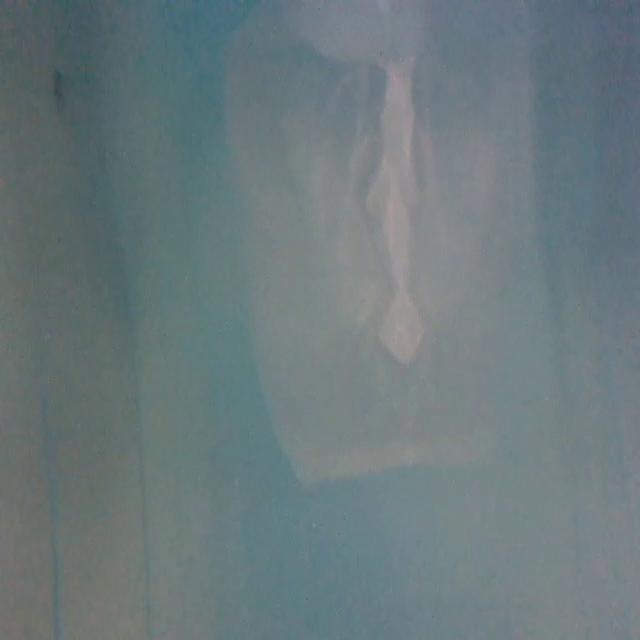plastic bags: (218, 5, 542, 487)
